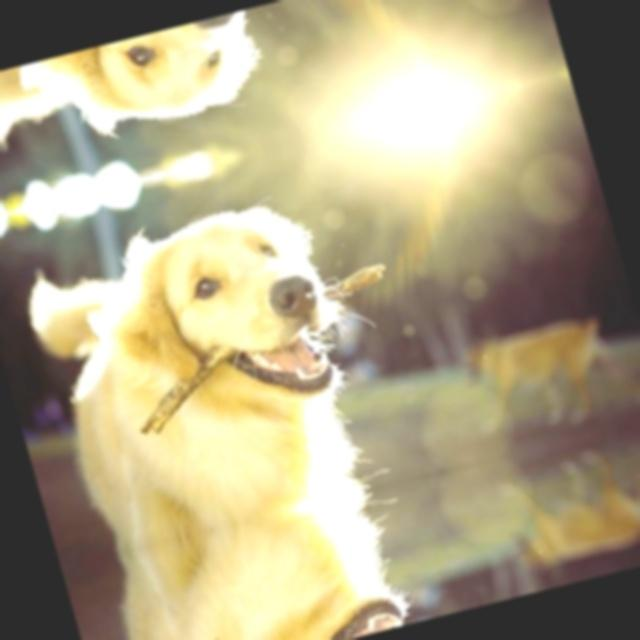dog: (112, 163, 386, 430), (67, 1, 310, 160), (231, 580, 454, 640)
